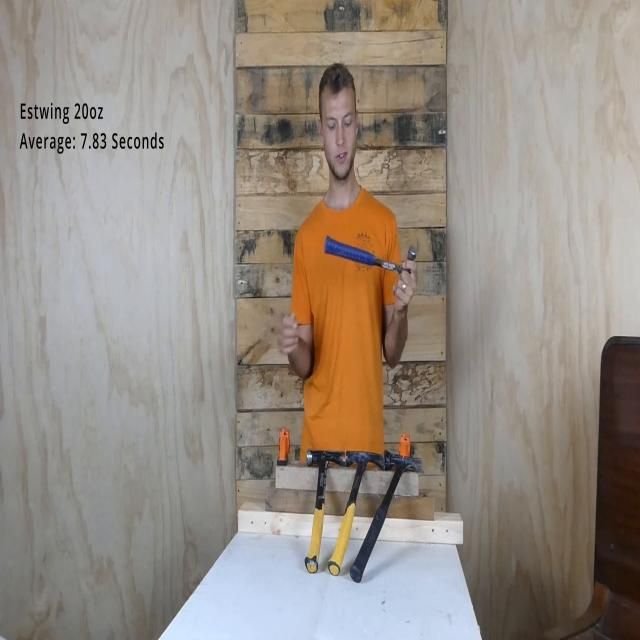hammer: (349, 455, 423, 587), (321, 447, 384, 575), (324, 235, 419, 298), (304, 440, 340, 576)
